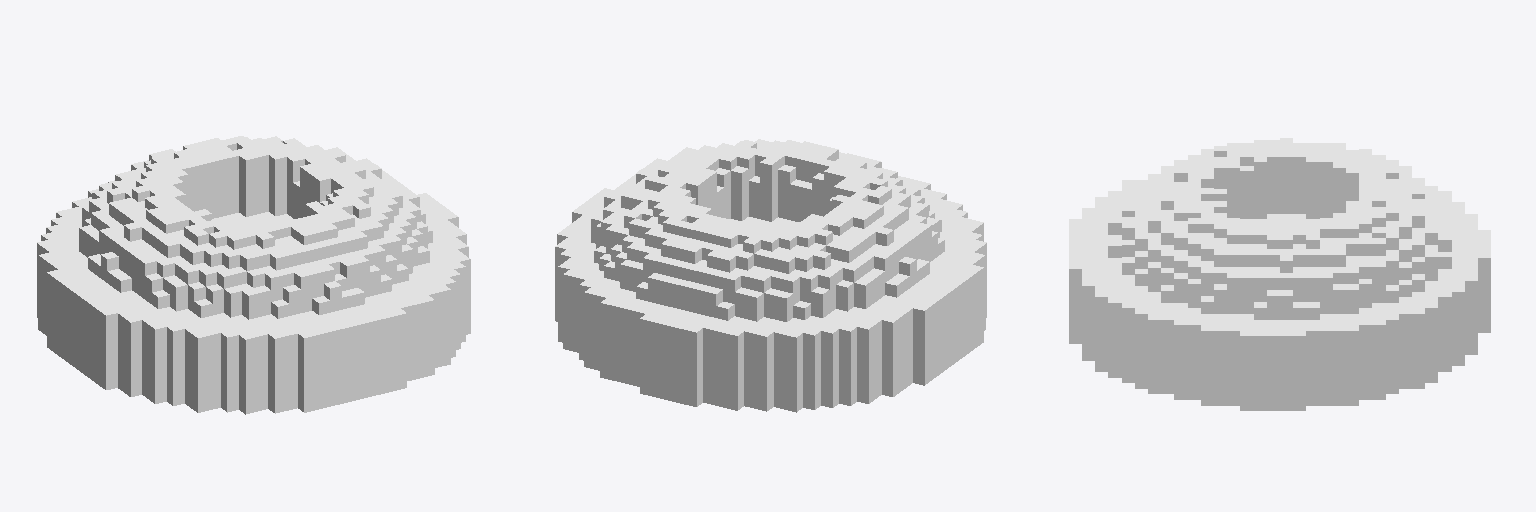
File: StoneRocketLauncher-1-1.obj
The picture shows the model from 3 angles: view 1: azimuth 30°, elevation 25°; view 2: azimuth 150°, elevation 25°; view 3: azimuth 270°, elevation 25°; orthographic projection.
Visible parts, largest first — view 1: 1; view 2: 1; view 3: 1.
Boxes of the visible parts, <box> form: 1: <box>37,136,470,414</box>; 1: <box>555,139,986,412</box>; 1: <box>1069,138,1490,410</box>.
Bounding box in the file's own units: 12.8 × 4.4 × 12.8.